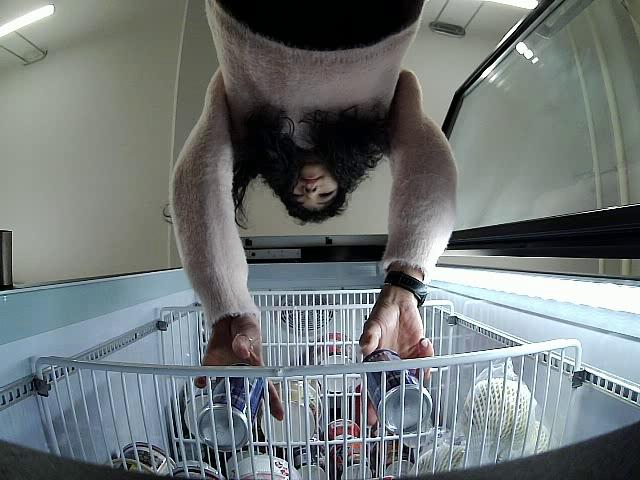00_hand: (359, 284, 434, 426), (195, 319, 286, 421)
16_hot6: (361, 350, 432, 435), (197, 371, 266, 449)
